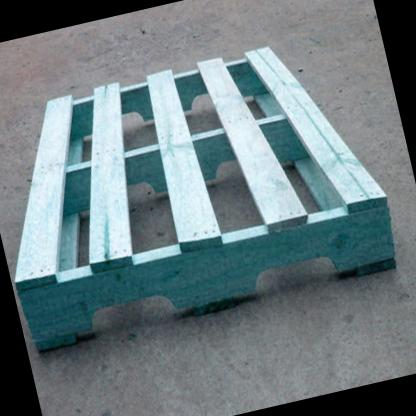BoxFace: (12, 43, 397, 353)
